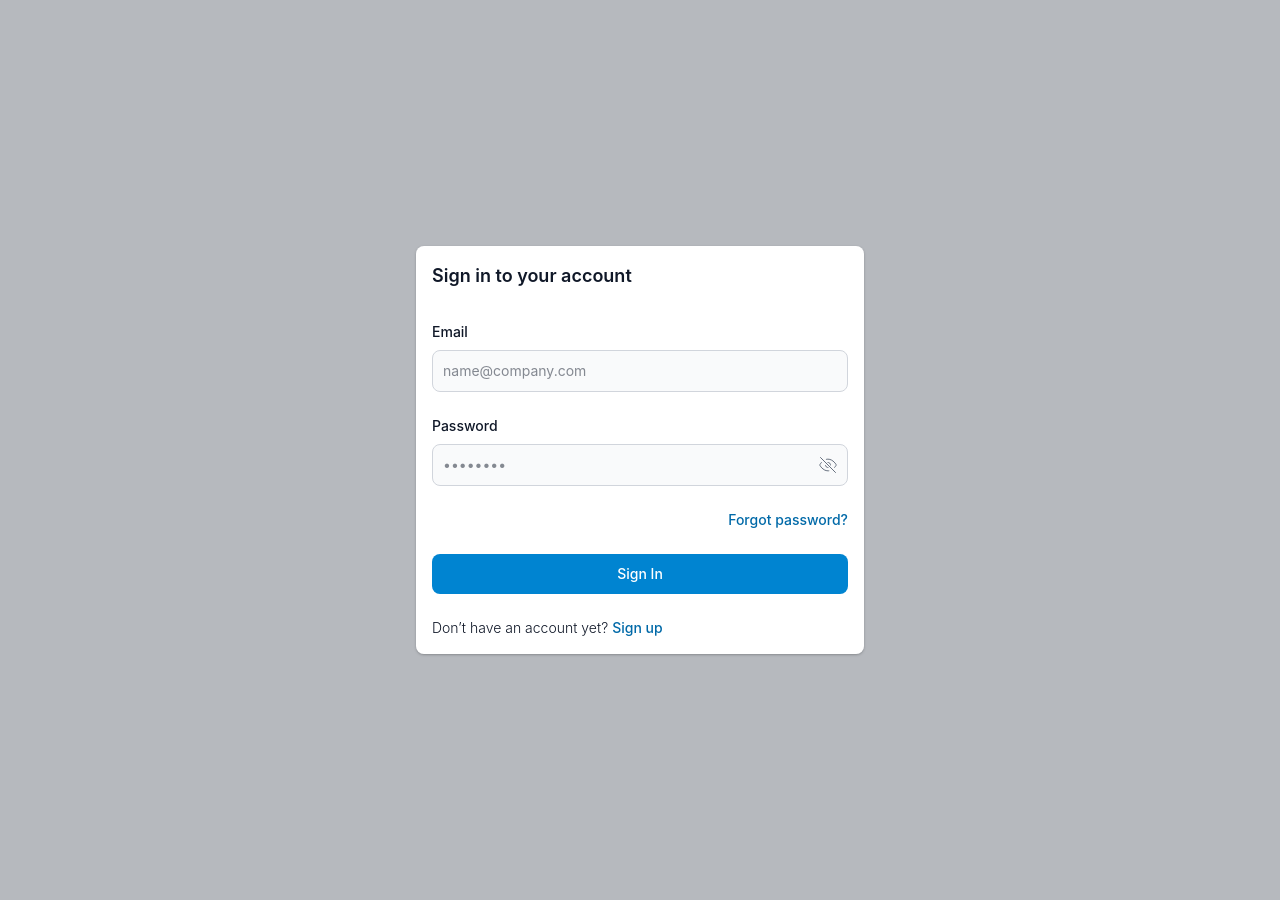
processing submit with password different from password confirmation
Click the button "Sign up". click: (637, 628)
box: [612, 618, 663, 638]
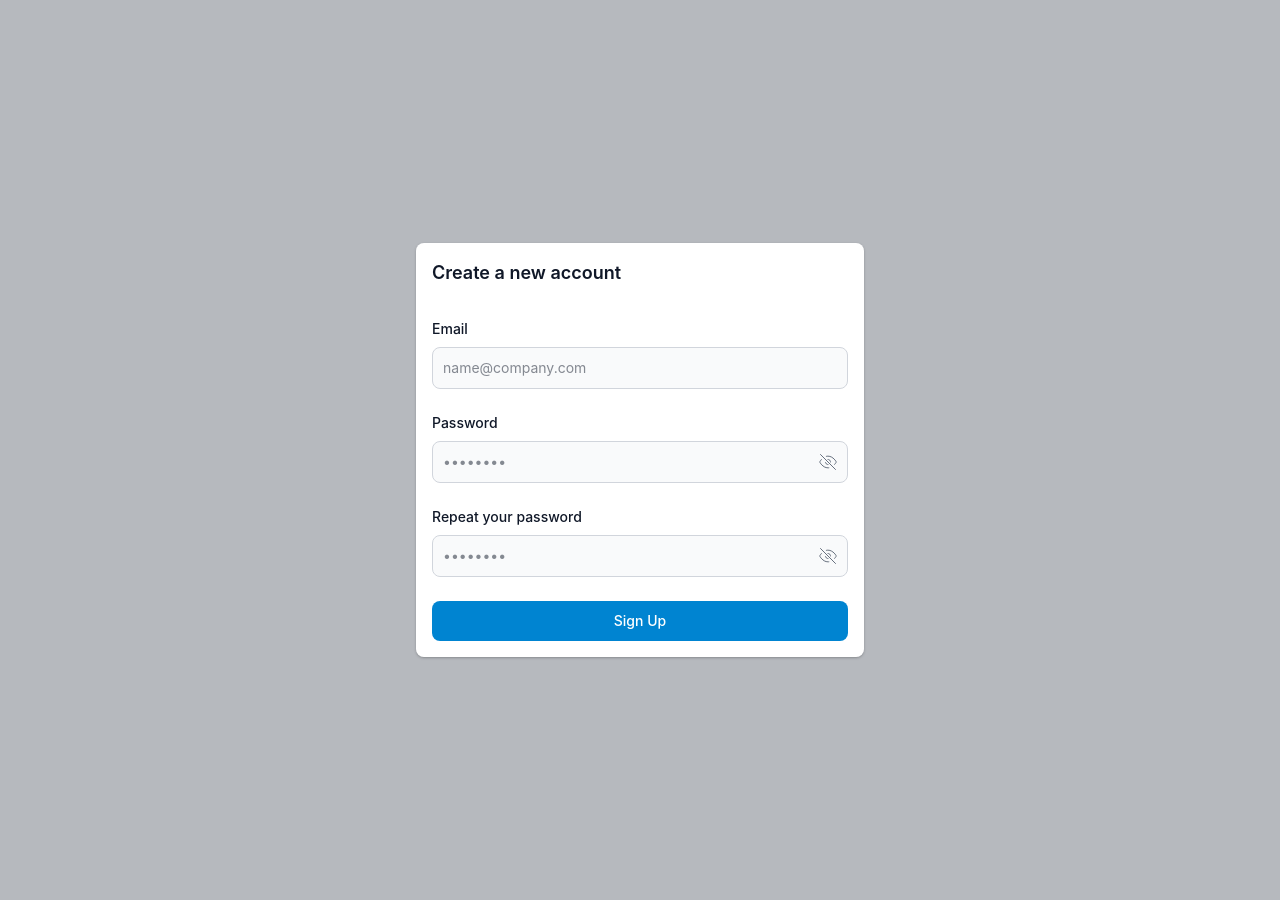
Expected: the form "Email Password Repeat your password Sign Up" is shown, [432, 319, 848, 641]
Type "testemail@mail.com" into the field labelled "Email". click: (640, 368)
box: [432, 347, 848, 389]
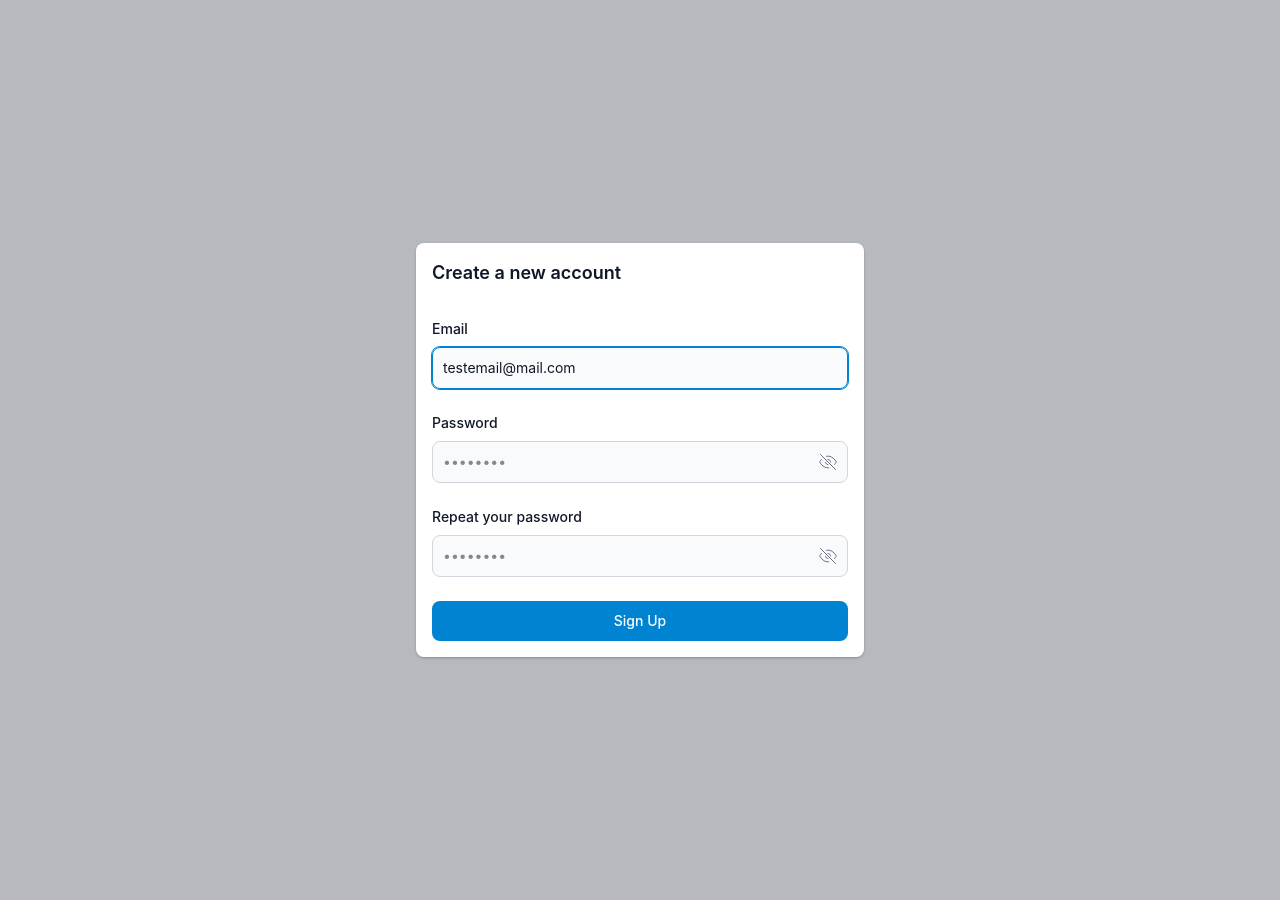
Type "someNicePassw0rd" into the password field labelled "Password". click: (640, 462)
box: [432, 441, 848, 483]
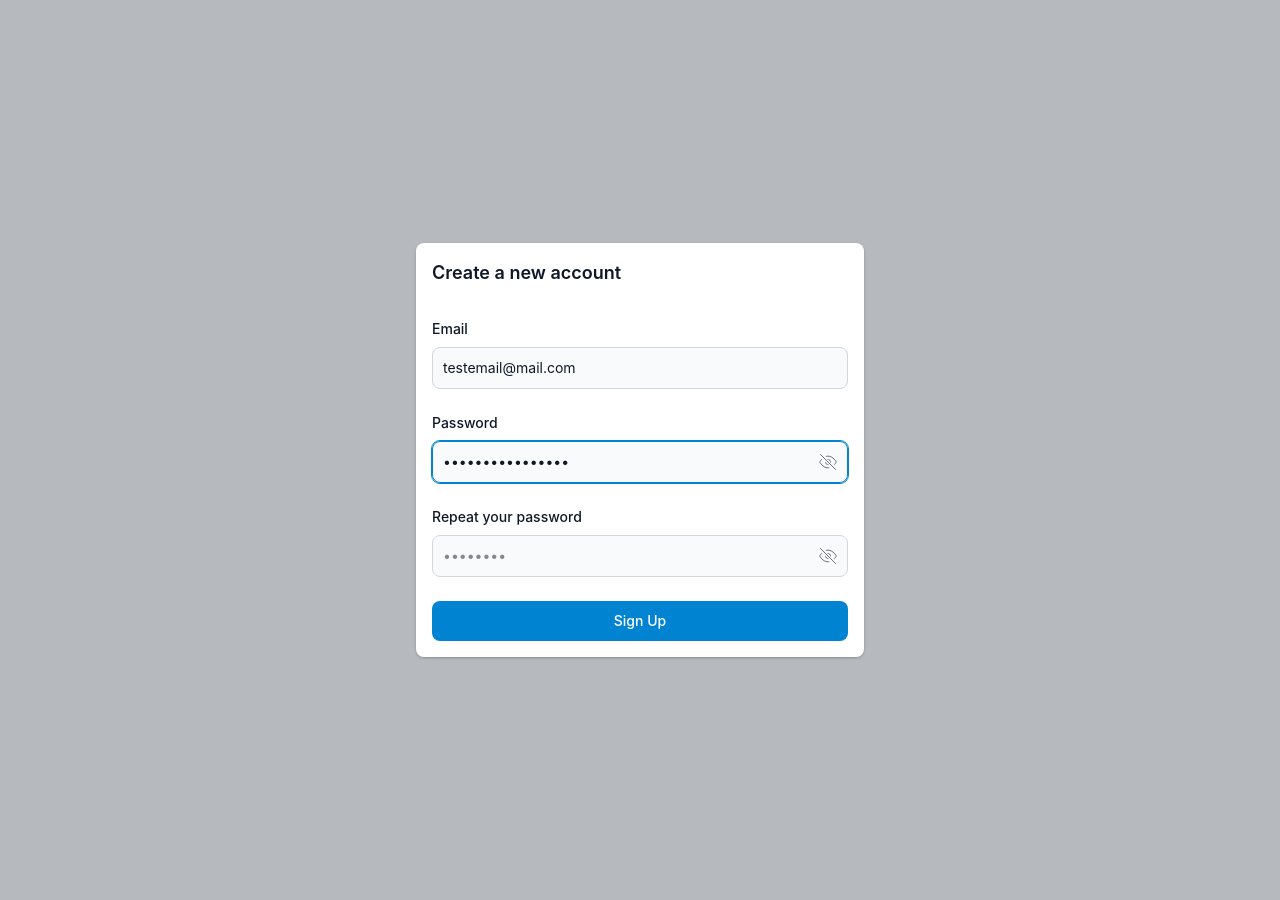
Type "someNicePassw0rdWithChanges" into the password field labelled "Repeat your password". click: (640, 556)
box: [432, 535, 848, 577]
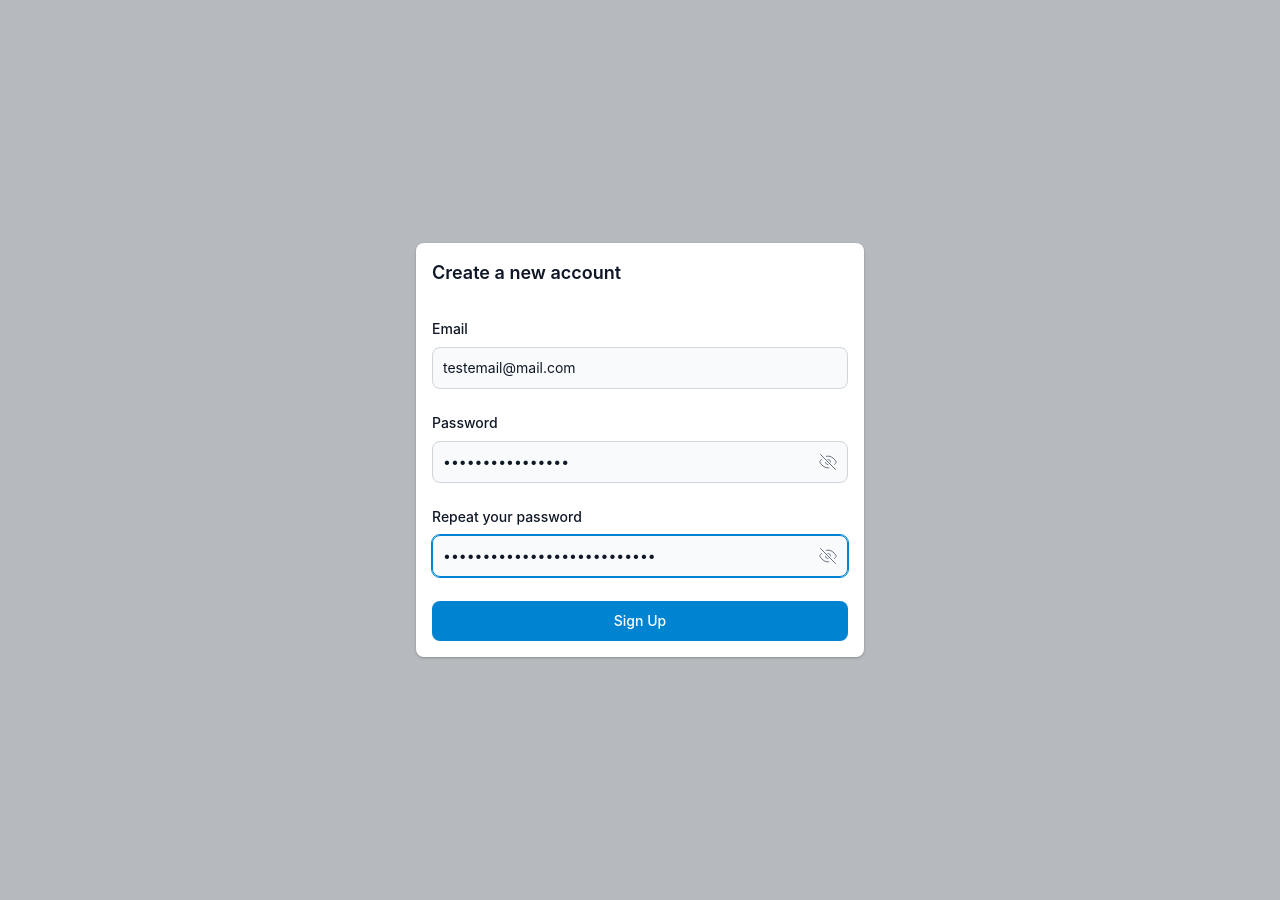
Click the button "Sign Up". click: (640, 621)
box: [432, 601, 848, 641]
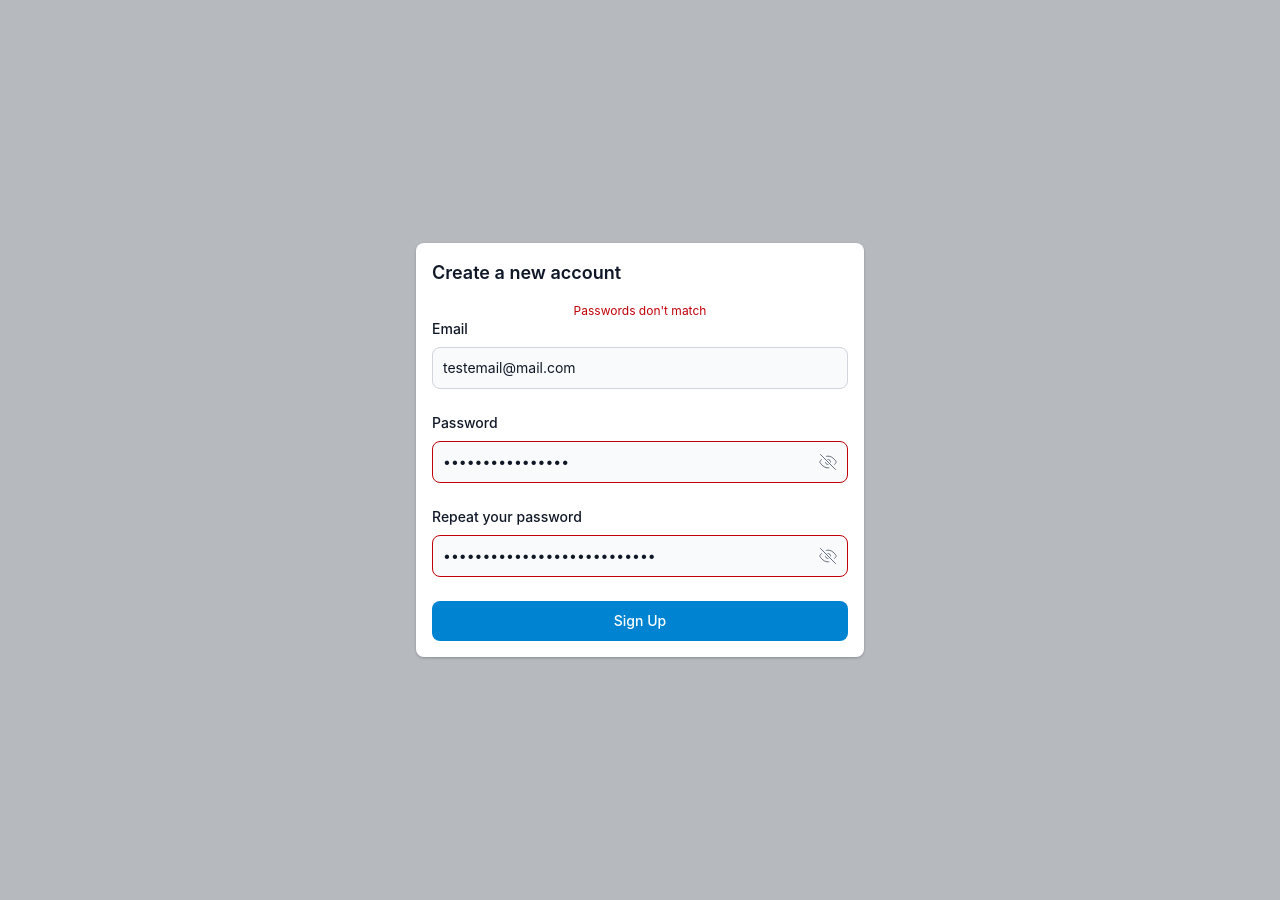
Now the password field labelled "Repeat your password" is enabled, box [432, 535, 848, 577]
Now the button "Sign Up" is shown, box [432, 601, 848, 641]
Now the text "Passwords don't match" is not empty, box [574, 303, 706, 318]
